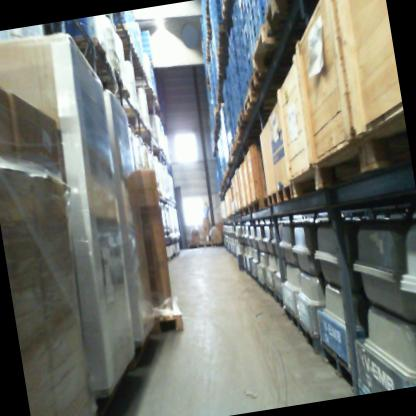pallet: (359, 101, 411, 170), (246, 21, 307, 71), (320, 338, 355, 392), (260, 0, 304, 37), (246, 63, 294, 93), (297, 314, 322, 361), (151, 302, 185, 334), (124, 335, 155, 370), (240, 86, 278, 114), (73, 35, 107, 60), (234, 105, 269, 129), (96, 67, 123, 91), (282, 306, 301, 334), (86, 55, 112, 74), (234, 122, 259, 139), (275, 183, 294, 203), (219, 0, 239, 19), (214, 21, 228, 46), (115, 22, 131, 43), (251, 195, 269, 212), (274, 291, 288, 311), (266, 190, 279, 206), (266, 285, 275, 302), (257, 277, 267, 292), (196, 241, 212, 249), (242, 203, 253, 214), (205, 14, 213, 29), (228, 143, 237, 155), (204, 0, 211, 15), (251, 271, 259, 284)
small_load_carrier: (239, 16, 252, 48), (249, 17, 262, 46), (254, 4, 268, 30), (243, 47, 255, 74), (246, 0, 258, 25), (237, 0, 248, 22), (253, 0, 264, 11), (246, 0, 255, 10)
